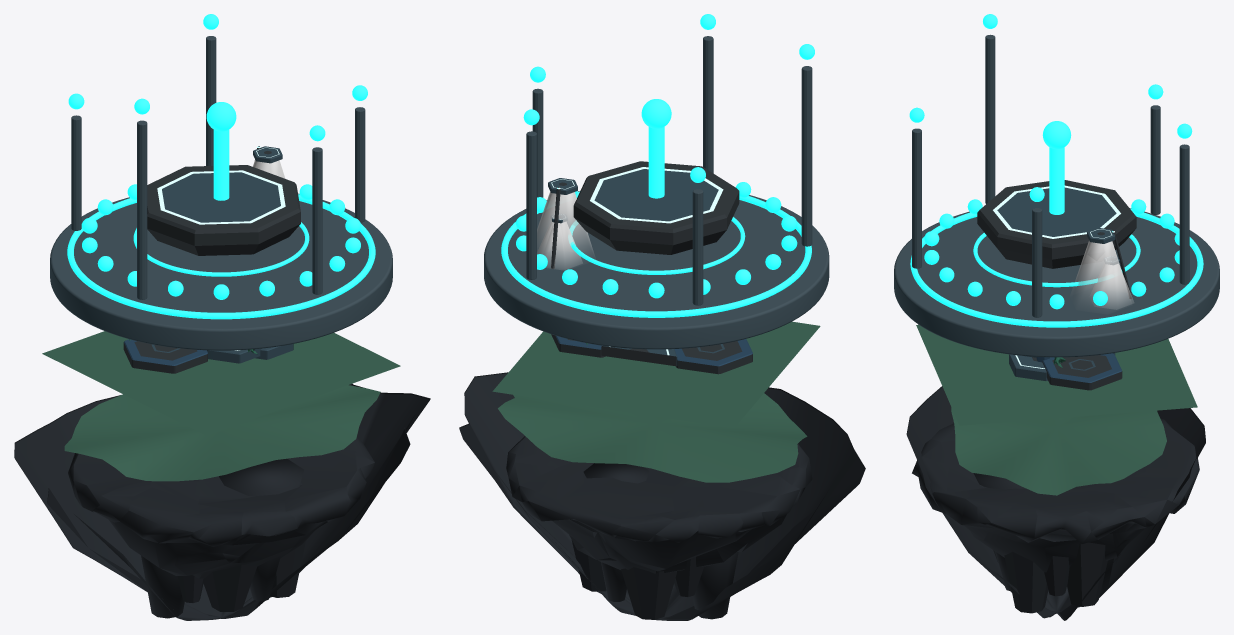
3 renders of one model, left to right at view 1: azimuth 30°, elevation 25°; view 2: azimuth 150°, elevation 25°; view 3: azimuth 270°, elevation 25°, orthographic. The views are drawn at different scales.
Parts seen in each view (by area): view 1: AI_PM_requirements_round_deck, AI_PM_requirements_island_Floating_Island_01_Art, AI_PM_requirements_terrain_cap, AI_PM_requirements_terrain_surface_Terrain_Art, AI_PM_requirements_organic_rock_shell, AI_PM_requirements_tower_Aero_Station_Mini_Platform_Art, AI_PM_requirements_outer_light_ring, AI_PM_requirements_underside_shard_02, AI_PM_requirements_hex_pad_Aero_Ground_Hexagons_01_Art, AI_PM_requirements_spire_mast_02, AI_PM_requirements_underside_shard_03, AI_PM_requirements_underside_shard_05 (+9 smaller); view 2: AI_PM_requirements_round_deck, AI_PM_requirements_island_Floating_Island_01_Art, AI_PM_requirements_terrain_cap, AI_PM_requirements_terrain_surface_Terrain_Art, AI_PM_requirements_organic_rock_shell, AI_PM_requirements_tower_Aero_Station_Mini_Platform_Art, AI_PM_requirements_hex_pad_Aero_Ground_Hexagons_01_Art, AI_PM_requirements_outer_light_ring, AI_PM_requirements_spire_mast_02, AI_PM_requirements_underside_shard_07, AI_PM_requirements_signal_lamp_Ray_light_01, AI_PM_requirements_underside_shard_05 (+12 smaller); view 3: AI_PM_requirements_round_deck, AI_PM_requirements_island_Floating_Island_01_Art, AI_PM_requirements_terrain_surface_Terrain_Art, AI_PM_requirements_terrain_cap, AI_PM_requirements_tower_Aero_Station_Mini_Platform_Art, AI_PM_requirements_organic_rock_shell, AI_PM_requirements_hex_pad_Aero_Ground_Hexagons_01_Art, AI_PM_requirements_outer_light_ring, AI_PM_requirements_signal_lamp_Ray_light_01, AI_PM_requirements_underside_shard_09, AI_PM_requirements_underside_shard_01, AI_PM_requirements_spire_mast_02 (+11 smaller).
Boxes of the visible parts, x1,y1,x2,y2 form: AI_PM_requirements_round_deck: (50, 193, 392, 350); AI_PM_requirements_island_Floating_Island_01_Art: (68, 438, 374, 578); AI_PM_requirements_terrain_cap: (64, 385, 380, 481); AI_PM_requirements_terrain_surface_Terrain_Art: (42, 331, 400, 435); AI_PM_requirements_organic_rock_shell: (14, 383, 430, 620); AI_PM_requirements_tower_Aero_Station_Mini_Platform_Art: (147, 165, 300, 255); AI_PM_requirements_outer_light_ring: (67, 194, 375, 319); AI_PM_requirements_underside_shard_02: (219, 459, 303, 601); AI_PM_requirements_hex_pad_Aero_Ground_Hexagons_01_Art: (123, 339, 293, 373); AI_PM_requirements_spire_mast_02: (137, 120, 147, 299); AI_PM_requirements_underside_shard_03: (203, 565, 257, 611); AI_PM_requirements_underside_shard_05: (141, 555, 184, 618); AI_PM_requirements_round_deck: (484, 191, 829, 349); AI_PM_requirements_island_Floating_Island_01_Art: (506, 436, 812, 573); AI_PM_requirements_terrain_cap: (498, 393, 807, 482); AI_PM_requirements_terrain_surface_Terrain_Art: (492, 321, 820, 427); AI_PM_requirements_organic_rock_shell: (459, 372, 865, 620); AI_PM_requirements_tower_Aero_Station_Mini_Platform_Art: (573, 161, 739, 254); AI_PM_requirements_hex_pad_Aero_Ground_Hexagons_01_Art: (551, 334, 752, 374); AI_PM_requirements_outer_light_ring: (501, 191, 811, 317); AI_PM_requirements_spire_mast_02: (801, 66, 812, 246); AI_PM_requirements_underside_shard_07: (621, 567, 676, 619); AI_PM_requirements_signal_lamp_Ray_light_01: (537, 191, 593, 258); AI_PM_requirements_underside_shard_05: (692, 552, 738, 619); AI_PM_requirements_round_deck: (894, 208, 1219, 357); AI_PM_requirements_island_Floating_Island_01_Art: (912, 419, 1199, 572); AI_PM_requirements_terrain_surface_Terrain_Art: (916, 324, 1197, 425); AI_PM_requirements_terrain_cap: (951, 407, 1166, 495); AI_PM_requirements_tower_Aero_Station_Mini_Platform_Art: (977, 180, 1136, 268); AI_PM_requirements_organic_rock_shell: (906, 386, 1205, 620); AI_PM_requirements_hex_pad_Aero_Ground_Hexagons_01_Art: (1009, 353, 1122, 390); AI_PM_requirements_outer_light_ring: (910, 208, 1203, 327); AI_PM_requirements_signal_lamp_Ray_light_01: (1072, 240, 1129, 303); AI_PM_requirements_underside_shard_09: (1067, 542, 1107, 606); AI_PM_requirements_underside_shard_01: (1004, 551, 1048, 613); AI_PM_requirements_spire_mast_02: (985, 34, 995, 203).
Bounding box in the file's own units: 1.01 × 1.44 × 0.78.
Materials: 16 (4 with a texture image).
